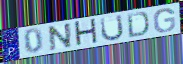0: (23, 27, 45, 55)
D: (126, 11, 151, 39)
G: (153, 7, 177, 34)
H: (73, 17, 100, 48)
N: (47, 22, 73, 52)
U: (100, 13, 125, 42)
